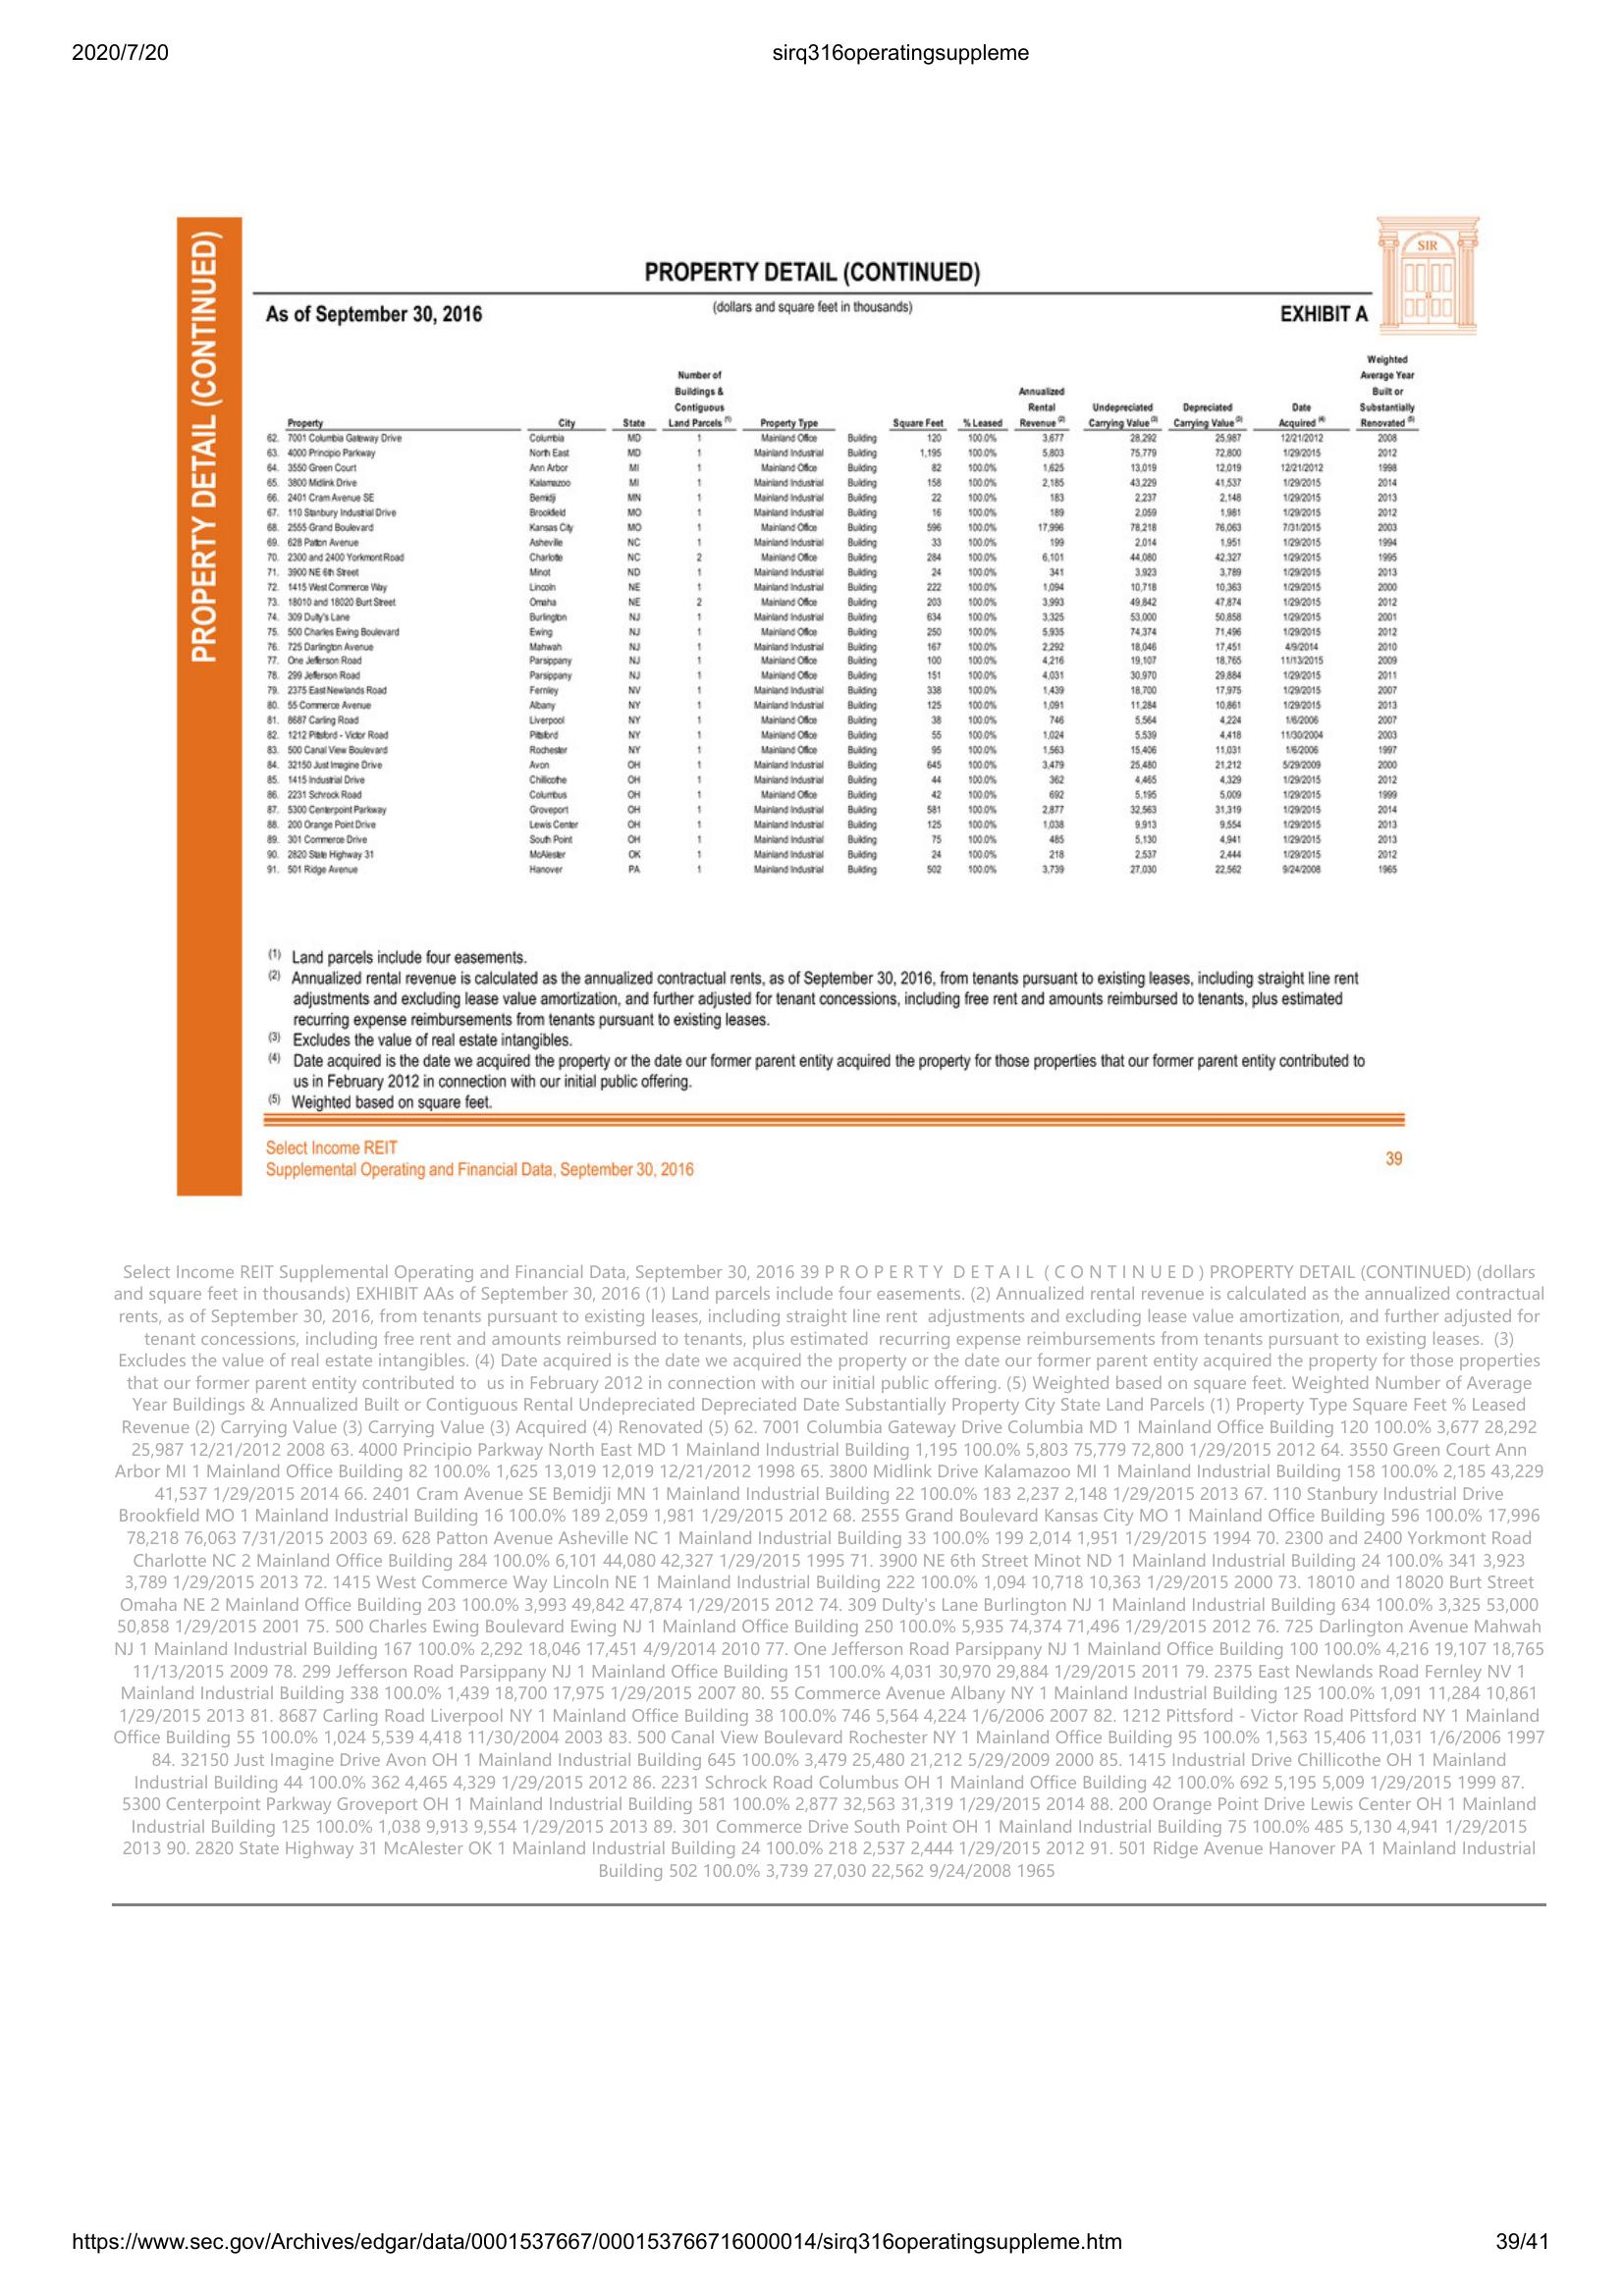table: (267, 344, 1421, 899)
